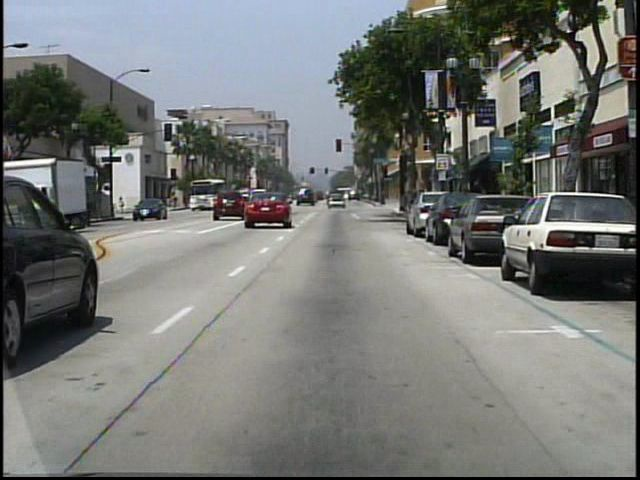person: (119, 196, 128, 216)
